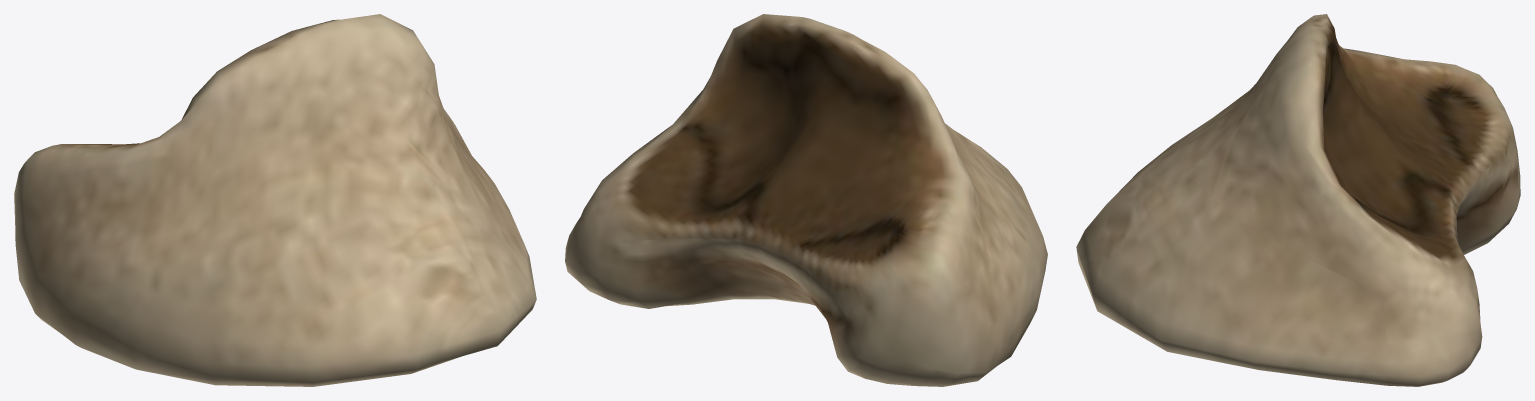
File: Coffin.glb
3 views of the same model, side by side, from view 1: azimuth 30°, elevation 25°; view 2: azimuth 150°, elevation 25°; view 3: azimuth 270°, elevation 25° (orthographic). The views are drawn at different scales.
Visible parts, largest first — view 1: L_Frt_Coffin; view 2: L_Frt_Coffin; view 3: L_Frt_Coffin.
Boxes of the visible parts, box(x1,y1,x2,y2) form: L_Frt_Coffin: box(14, 14, 536, 386); L_Frt_Coffin: box(565, 14, 1047, 386); L_Frt_Coffin: box(1076, 14, 1520, 386).
Size of the model in its own units: 0.0737 by 0.0459 by 0.0651.
Materials: 1 (1 with a texture image).
